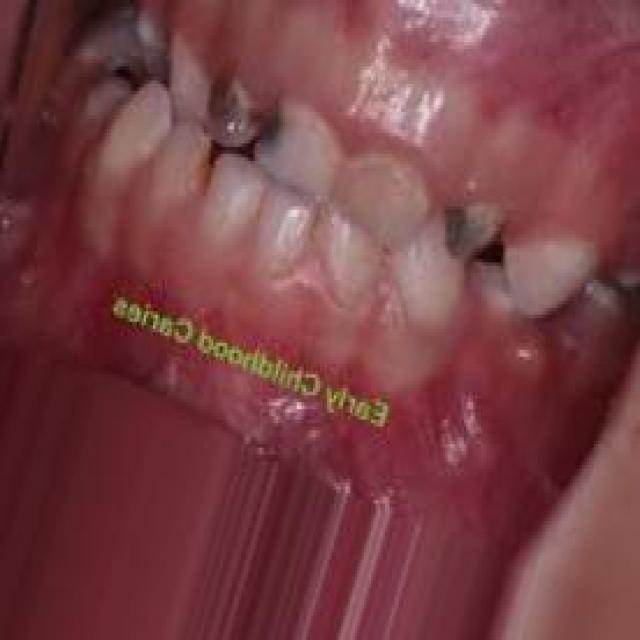caries: (252, 94, 329, 198), (197, 68, 257, 154), (442, 189, 502, 269), (122, 7, 173, 99)
